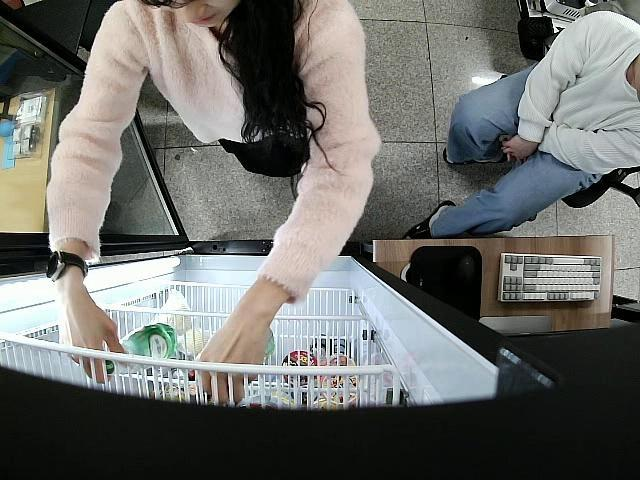18_trevi: (102, 324, 177, 376)
